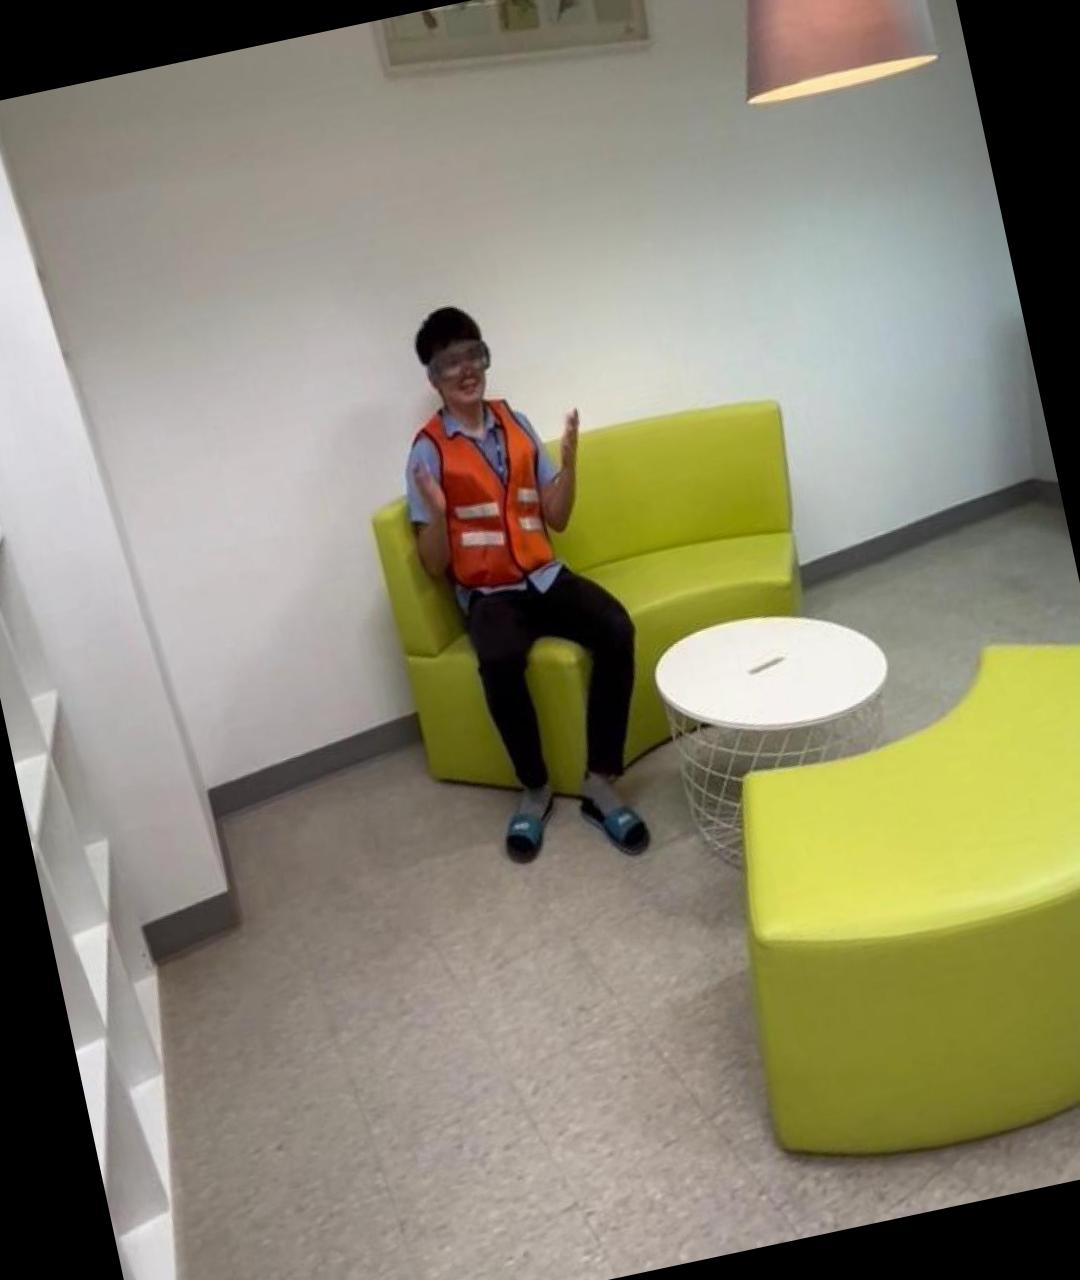No-gloves: (405, 447, 455, 522), (543, 397, 591, 475)
